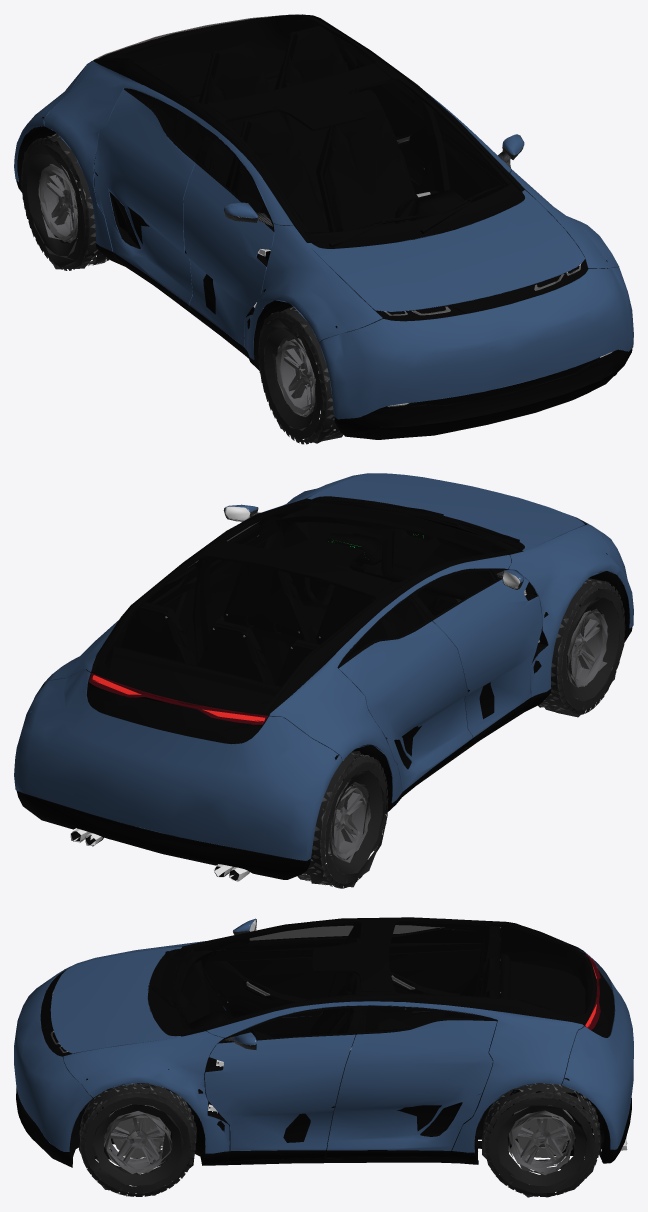
The model's file is traffic-crossover.glb.
The picture shows the model from 3 angles, top to bottom: view 1: azimuth 30°, elevation 25°; view 2: azimuth 150°, elevation 25°; view 3: azimuth 270°, elevation 25°; orthographic projection. The views are drawn at different scales.
Visible parts, largest first — view 1: Body, wheel-front-right-mesh, wheel-rear-right-mesh; view 2: Body, wheel-rear-right-mesh, wheel-front-right-mesh; view 3: Body, wheel-front-left-mesh, wheel-rear-left-mesh.
Part boxes in pixels (<box>): Body: <box>14,14,633,439</box>; wheel-front-right-mesh: <box>258,306,343,444</box>; wheel-rear-right-mesh: <box>21,133,109,270</box>; Body: <box>14,473,633,881</box>; wheel-rear-right-mesh: <box>297,751,388,888</box>; wheel-front-right-mesh: <box>538,578,625,717</box>; Body: <box>14,917,633,1167</box>; wheel-front-left-mesh: <box>79,1083,196,1196</box>; wheel-rear-left-mesh: <box>482,1083,601,1197</box>.
Size of the model in its own units: 1.37 by 0.9154 by 2.8.
18 materials, 2 textured.
